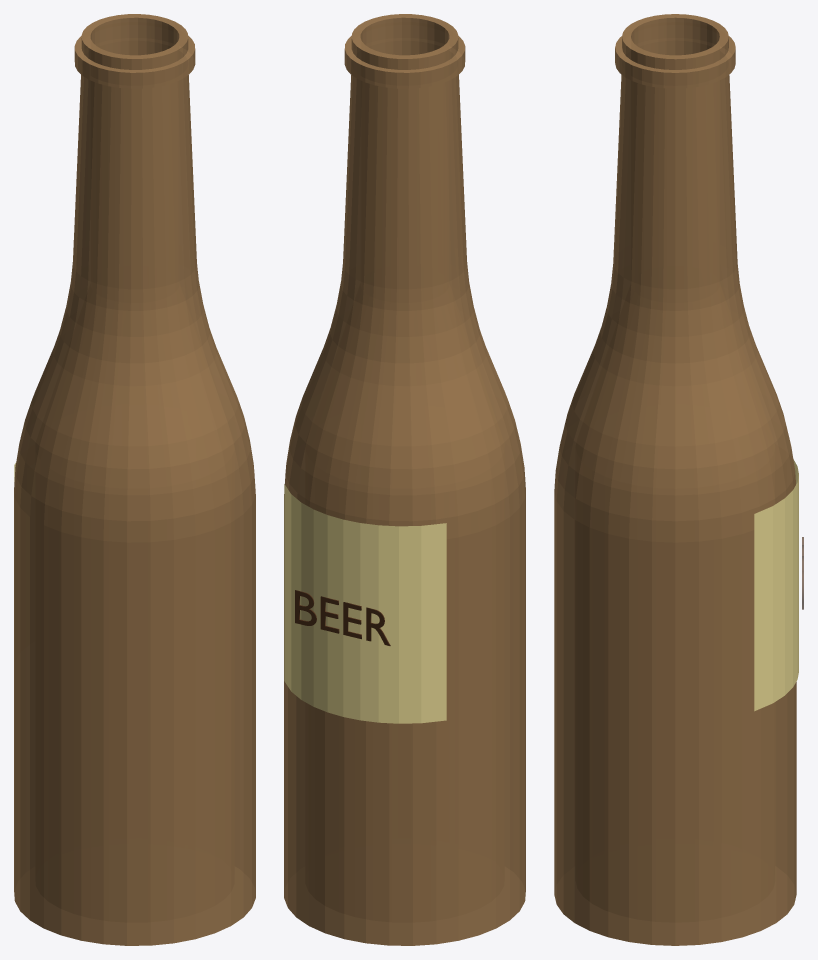
Rendered from BeerBottle.dae.
The picture shows the model from 3 angles, left to right: view 1: azimuth 30°, elevation 25°; view 2: azimuth 150°, elevation 25°; view 3: azimuth 270°, elevation 25°; orthographic projection.
Visible parts, largest first — view 1: Cylinder_001.001; view 2: Cylinder_001.001, beerbottle_label_panel, beerbottle_label_text; view 3: Cylinder_001.001, beerbottle_label_panel.
Boxes of the visible parts, x1,y1,x2,y2 form: Cylinder_001.001: (14,14,255,945); Cylinder_001.001: (284,14,525,945); beerbottle_label_panel: (284,484,446,723); beerbottle_label_text: (295,590,390,645); Cylinder_001.001: (554,14,796,945); beerbottle_label_panel: (754,459,798,711).
Bounding box in the file's own units: 0.061 × 0.0628 × 0.2384.
